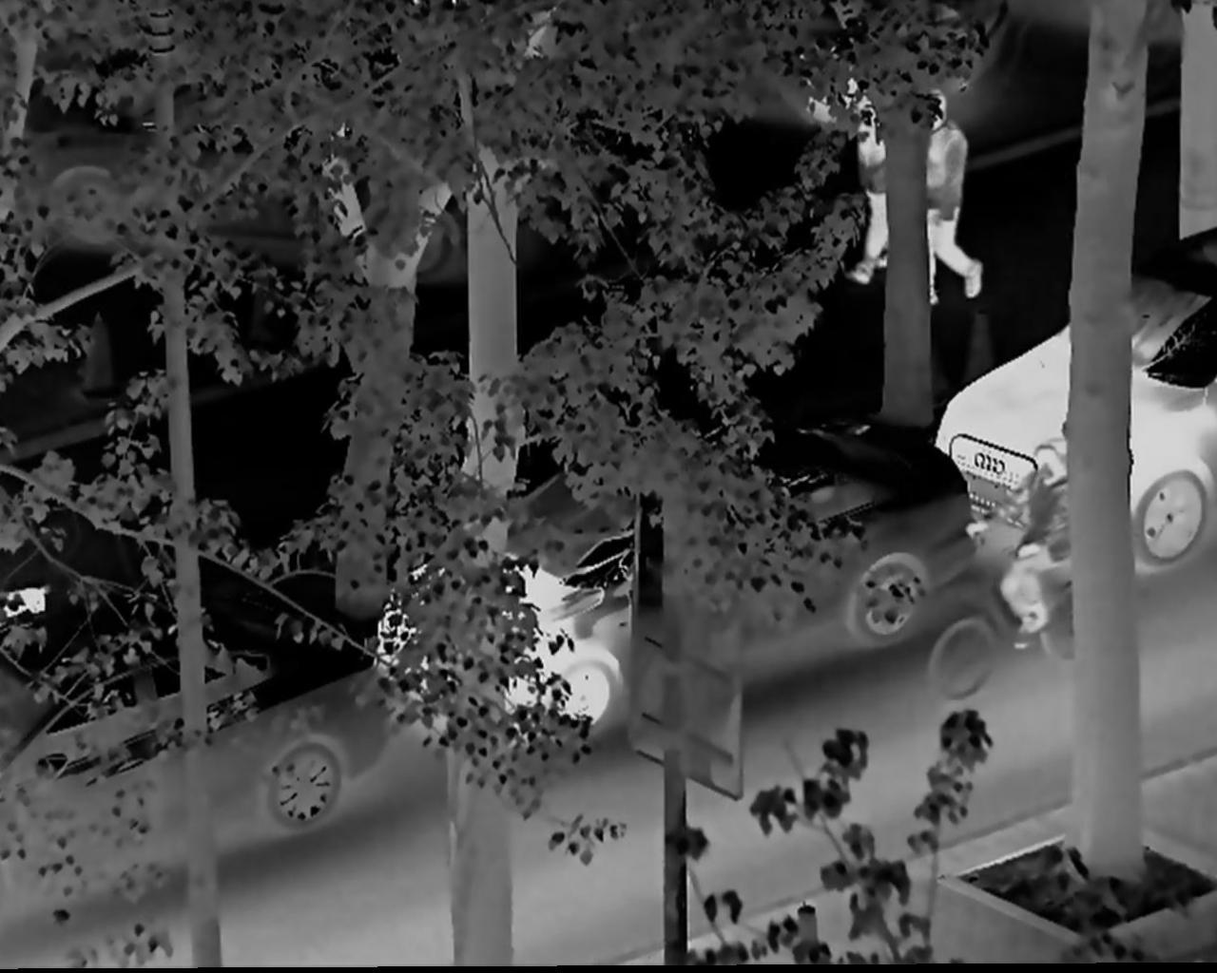person: (966, 433, 1083, 664), (902, 79, 1001, 314), (826, 64, 902, 276)
